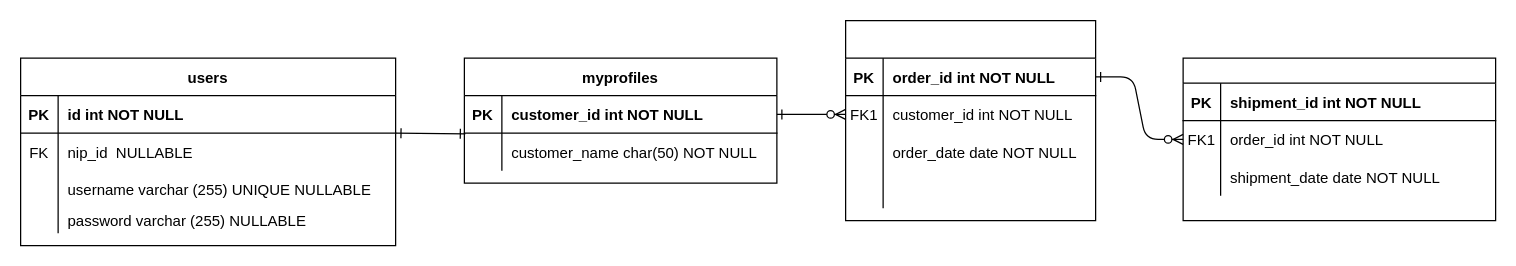
Some shapes in this 1516 by 266 pixel diagram are drawn without their labels. The box of each missing label's shape, as (x1, y1, x2, y2) in pixels:
Orders: (844, 19, 1096, 221)
Shipments: (1182, 57, 1496, 221)
